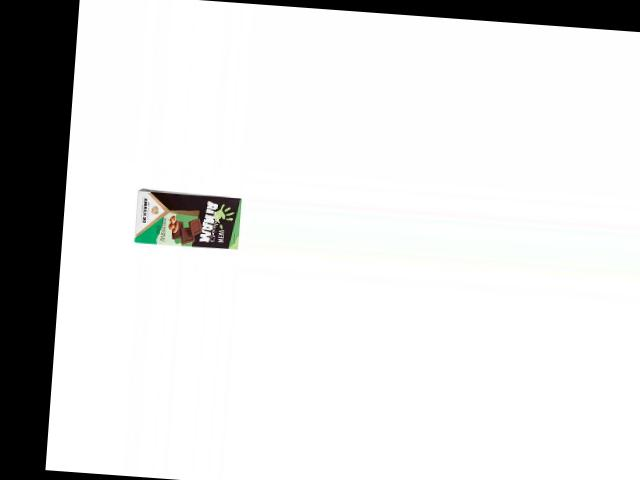chocolate: (132, 187, 243, 252)
